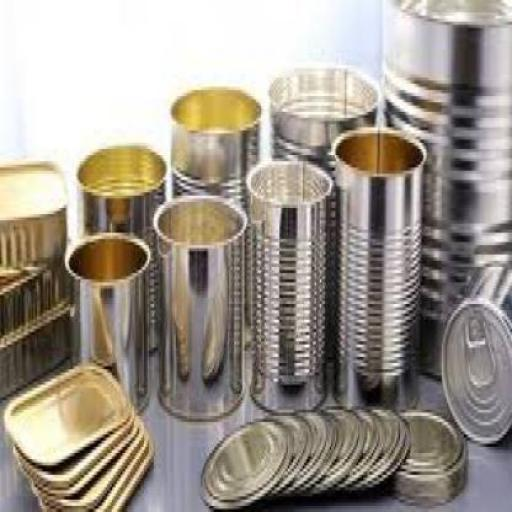metal: (382, 0, 510, 379), (268, 64, 376, 348), (330, 124, 423, 416), (168, 83, 260, 348), (152, 189, 244, 419), (246, 155, 325, 404), (75, 142, 164, 354), (64, 236, 146, 409), (14, 409, 152, 509), (6, 360, 131, 466), (440, 260, 510, 444), (200, 413, 284, 509), (386, 400, 466, 500), (0, 298, 65, 397), (0, 164, 65, 258), (254, 409, 310, 503), (0, 263, 68, 324), (293, 406, 331, 500), (323, 406, 360, 500), (353, 406, 385, 500)
